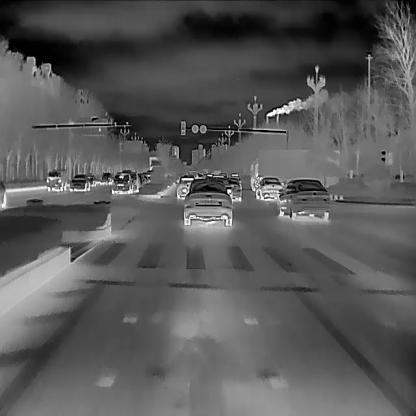car: (249, 150, 354, 194), (182, 177, 233, 226), (278, 177, 330, 219), (255, 176, 281, 199), (177, 175, 198, 198), (47, 168, 68, 190), (112, 171, 132, 194), (70, 171, 90, 192), (223, 175, 239, 200), (125, 170, 137, 192)
